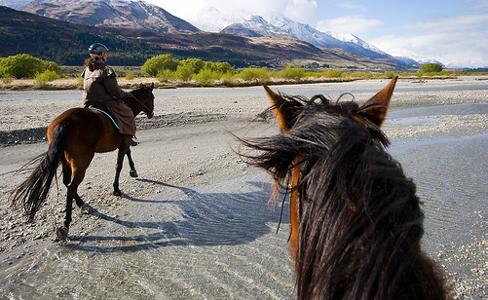person: (79, 43, 140, 150)
